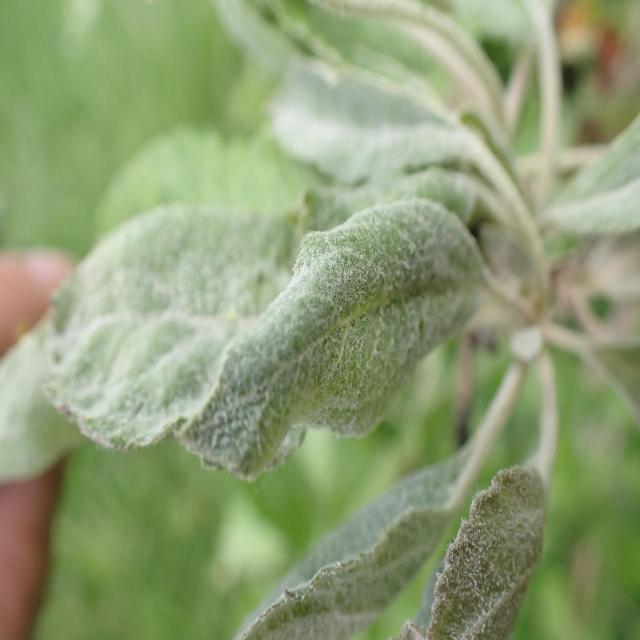Powdery_mildew: (23, 193, 486, 492), (233, 411, 497, 640), (416, 356, 555, 640)
